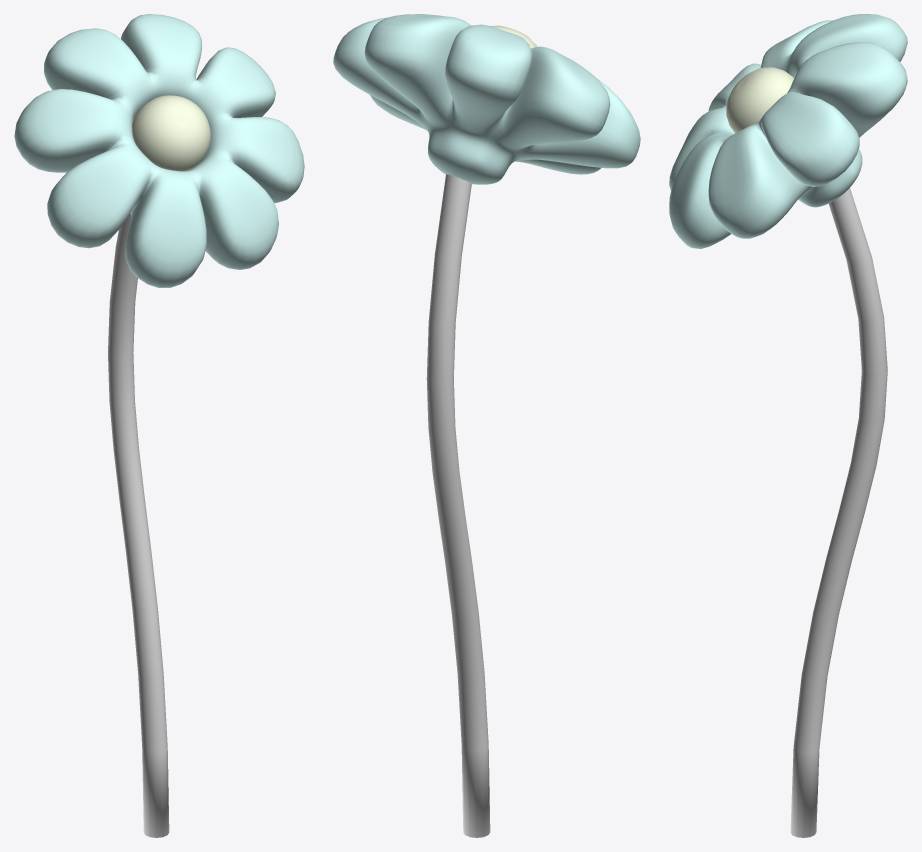
Rendered from floresmale3.fbx.
3 renders of one model, left to right at view 1: azimuth 30°, elevation 25°; view 2: azimuth 150°, elevation 25°; view 3: azimuth 270°, elevation 25°, orthographic. The views are drawn at different scales.
Parts seen in each view (by area): view 1: Circle.001, BézierCurve.006, Cylinder.013; view 2: Circle.001, BézierCurve.006; view 3: Circle.001, BézierCurve.006, Cylinder.013.
Part boxes in pixels (x1,y1,x2,y2): Circle.001: [14, 14, 304, 287]; BézierCurve.006: [108, 213, 169, 837]; Cylinder.013: [132, 95, 210, 171]; Circle.001: [333, 14, 640, 184]; BézierCurve.006: [426, 174, 490, 837]; Circle.001: [669, 14, 907, 248]; BézierCurve.006: [790, 188, 887, 837]; Cylinder.013: [726, 67, 794, 133].
Bounding box in the file's own units: 28.42 × 86.26 × 23.4.
